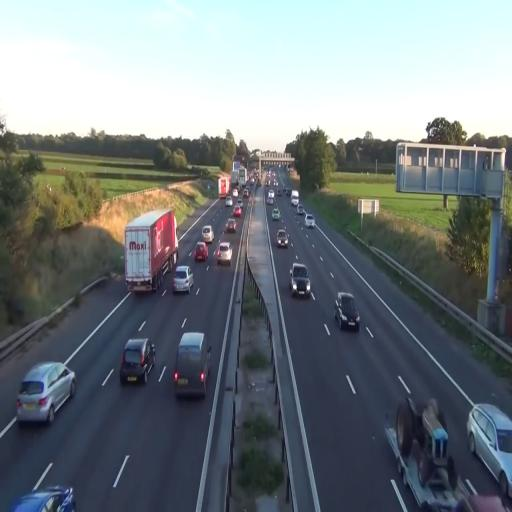vehicle: (466, 401, 512, 506), (124, 208, 178, 296), (15, 361, 76, 425), (9, 469, 75, 512), (172, 330, 212, 399), (119, 336, 156, 386), (334, 292, 360, 332), (289, 260, 311, 299), (173, 265, 193, 295), (215, 240, 232, 266), (276, 225, 289, 249), (194, 240, 208, 262), (202, 226, 214, 244), (304, 214, 314, 230)
